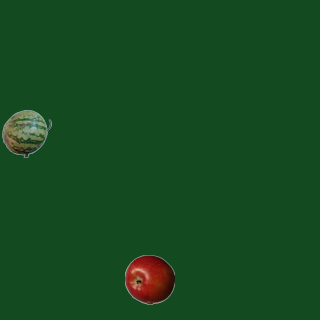Apple Braeburn: (124, 254, 174, 304)
Watermelon: (1, 108, 51, 158)
